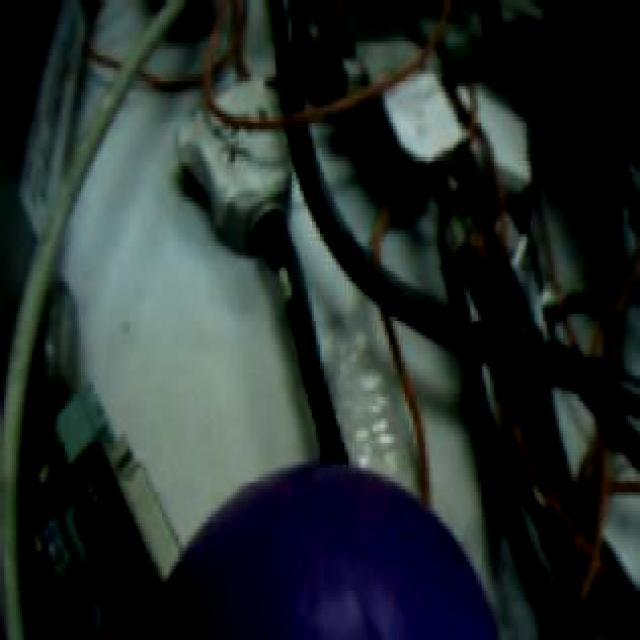BallPurple: (156, 461, 502, 640)
